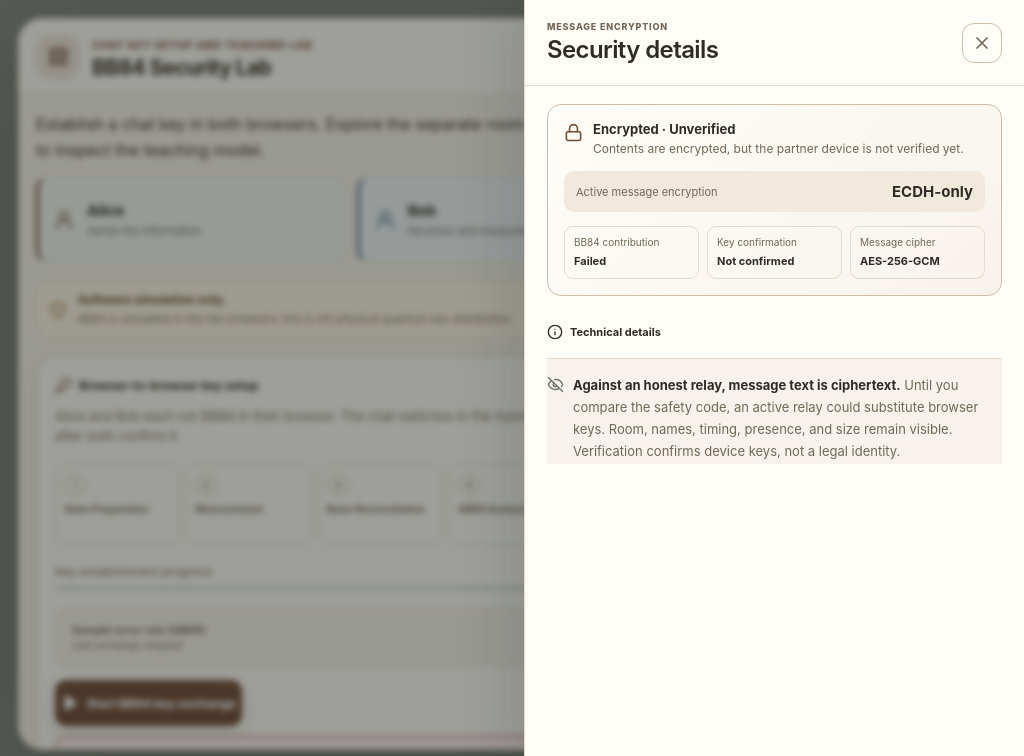
shared runtime key status in Security Details and BB84 Security Lab › shows a failed endpoint run without a contribution or hybrid epoch
This screenshot has width=1024, height=756.
Later steps or results of the test are not shown.
Click the heading "Technical details" at (604, 332), box x1=547 y1=324 x2=661 y2=340
(page scrolled)
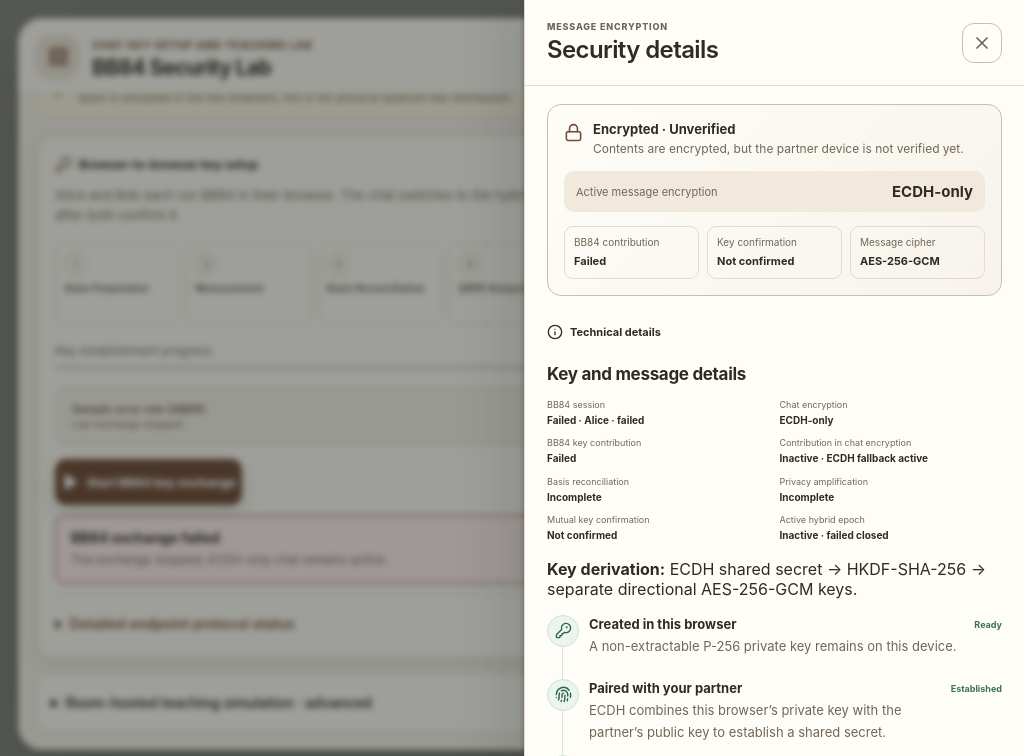
Check: the text "ECDH-only chat active" is shown, box x1=839 y1=153 x2=969 y2=177
Check: the message "BB84 exchange failed The exchange stopped; ECDH-only chat remains active." is shown, box x1=55 y1=515 x2=969 y2=584
